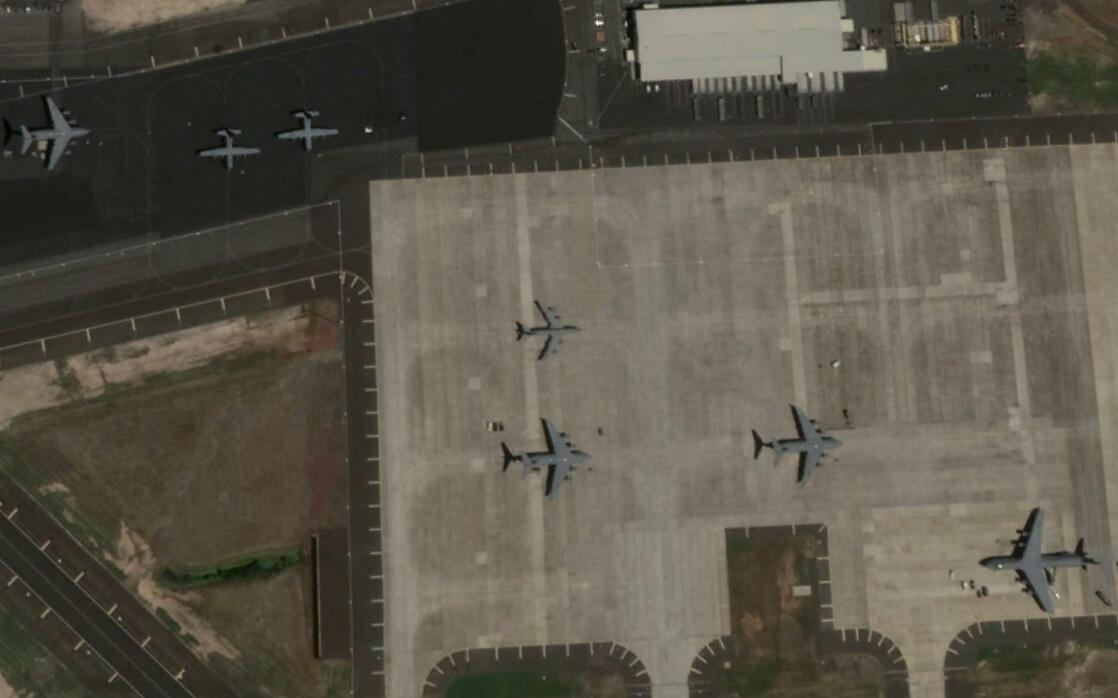A14: (515, 297, 590, 364)
A2: (276, 106, 342, 151), (200, 126, 261, 171)
A3: (511, 418, 598, 502), (767, 406, 847, 484), (21, 95, 91, 174)
A4: (978, 504, 1098, 613)
